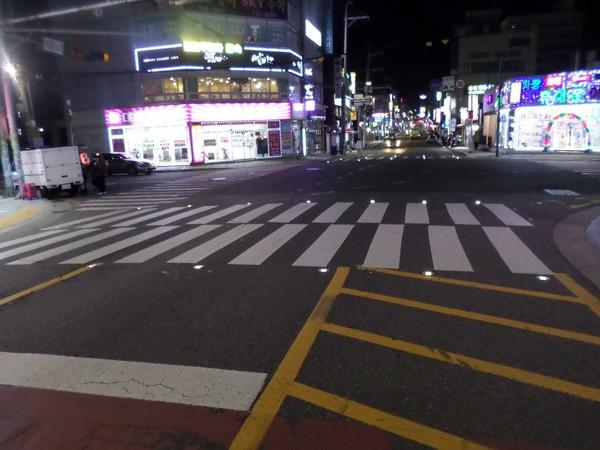crosswalk: (27, 206, 556, 280), (81, 163, 303, 212)
